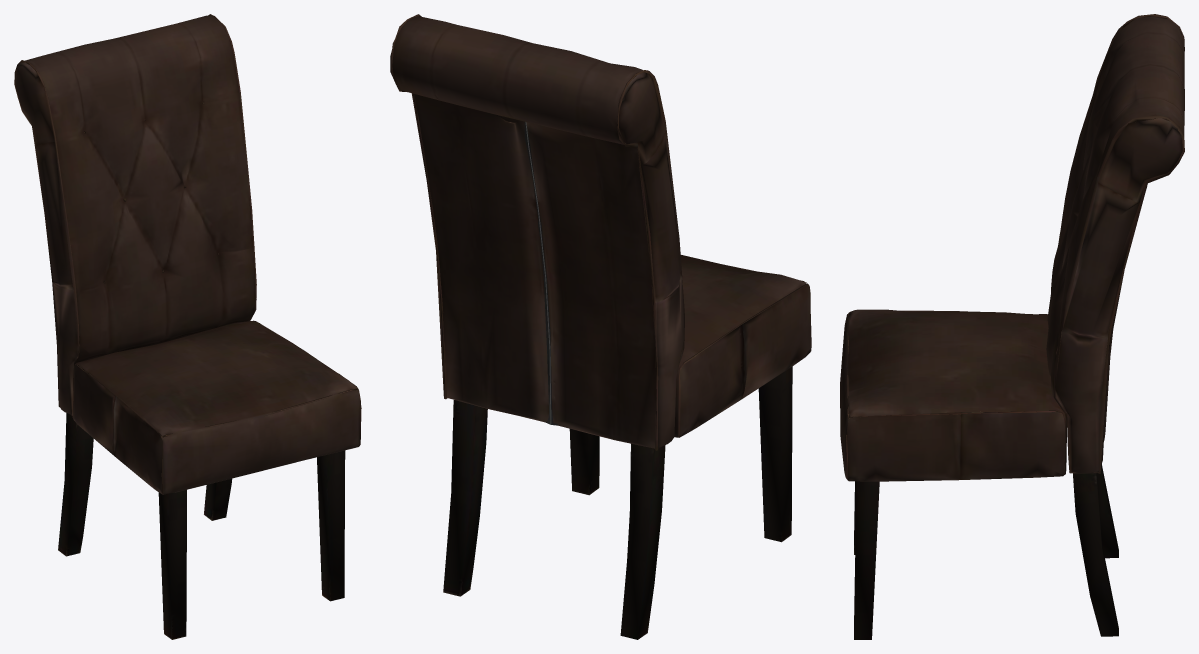
The model's file is dining_chair.glb.
3 views of the same model, side by side, from view 1: azimuth 30°, elevation 25°; view 2: azimuth 150°, elevation 25°; view 3: azimuth 270°, elevation 25° (orthographic). The views are drawn at different scales.
Visible parts, largest first — view 1: dining_chair_02; view 2: dining_chair_02; view 3: dining_chair_02.
Part boxes in pixels (box(x1,y1,x2,y2)): dining_chair_02: box(14, 14, 361, 639); dining_chair_02: box(390, 14, 811, 639); dining_chair_02: box(840, 14, 1184, 639).
Size of the model in its own units: 0.4331 by 0.9728 by 0.5748.
Materials: 1 (1 with a texture image).
